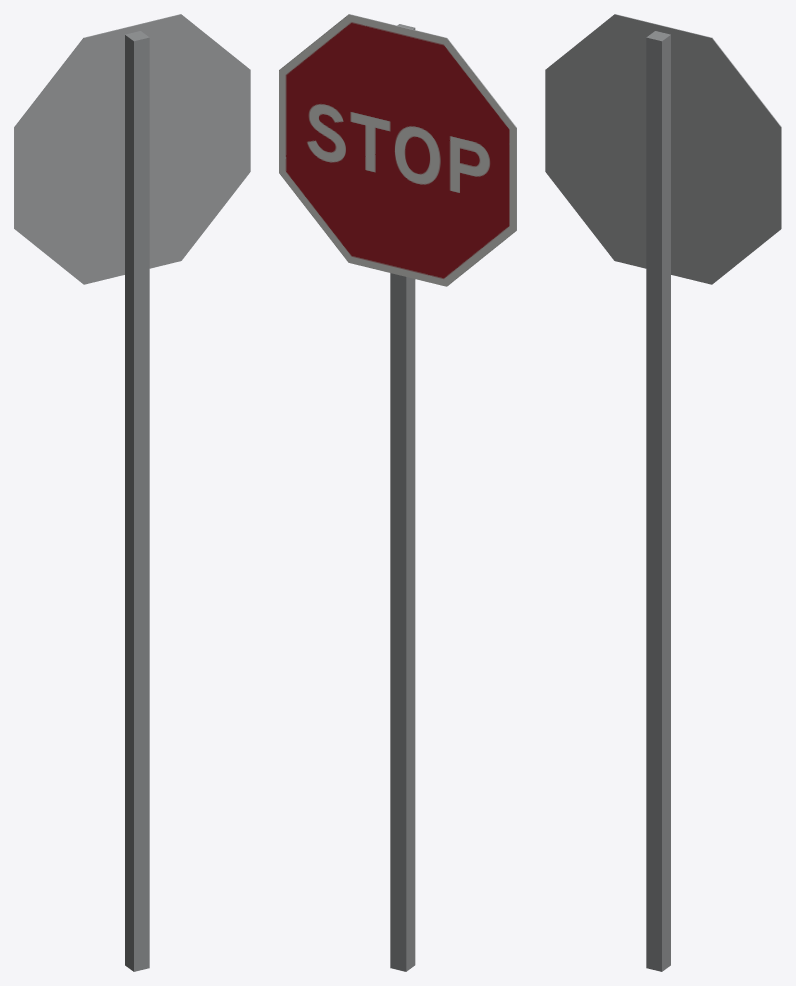
The model's file is sign_r1-1_stop.glb.
3 views of the same model, side by side, from view 1: azimuth 30°, elevation 25°; view 2: azimuth 150°, elevation 25°; view 3: azimuth 330°, elevation 25° (orthographic).
Visible parts, largest first — view 1: sign_r1-1_stop; view 2: sign_r1-1_stop; view 3: sign_r1-1_stop.
Boxes of the visible parts, x1,y1,x2,y2 form: sign_r1-1_stop: (14,14,250,971); sign_r1-1_stop: (279,14,516,971); sign_r1-1_stop: (545,14,781,971).
Size of the model in its own units: 0.762 by 2.9 by 0.0538.
3 materials, 1 textured.
